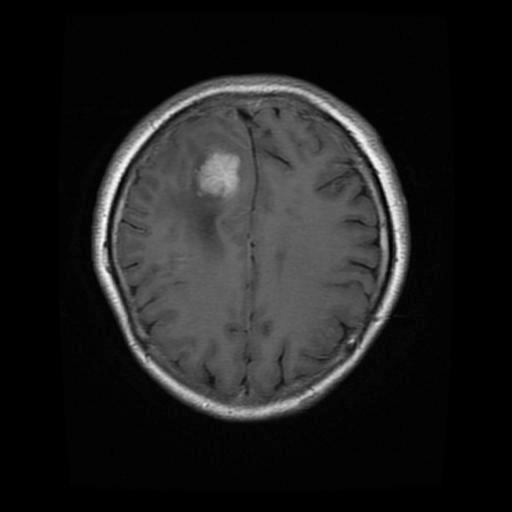Tumour-Pituitary: (176, 124, 262, 208)
